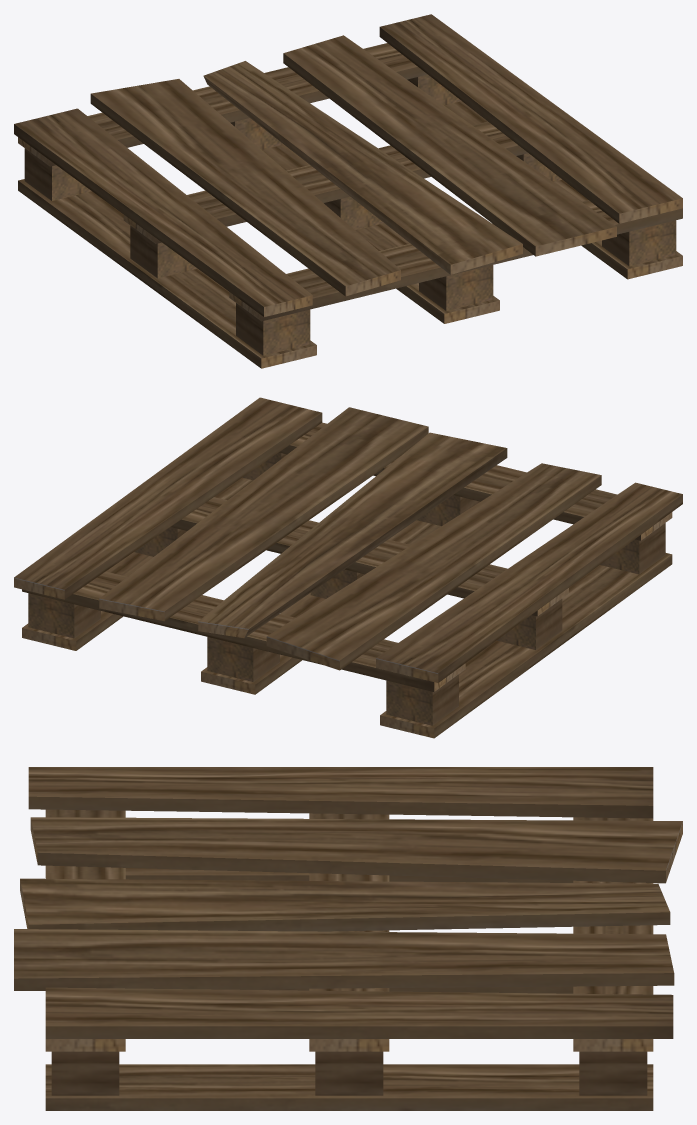
The model's file is Palette.fbx.
3 views of the same model, one above another, from view 1: azimuth 30°, elevation 25°; view 2: azimuth 150°, elevation 25°; view 3: azimuth 270°, elevation 25° (orthographic). The views are drawn at different scales.
Parts seen in each view (by area): view 1: polySurface975; view 2: polySurface975; view 3: polySurface975.
Part boxes in pixels (x1,y1,x2,y2): polySurface975: (14,14,682,368); polySurface975: (14,397,682,738); polySurface975: (14,767,682,1110).
Size of the model in its own units: 132 by 20.1 by 144.
